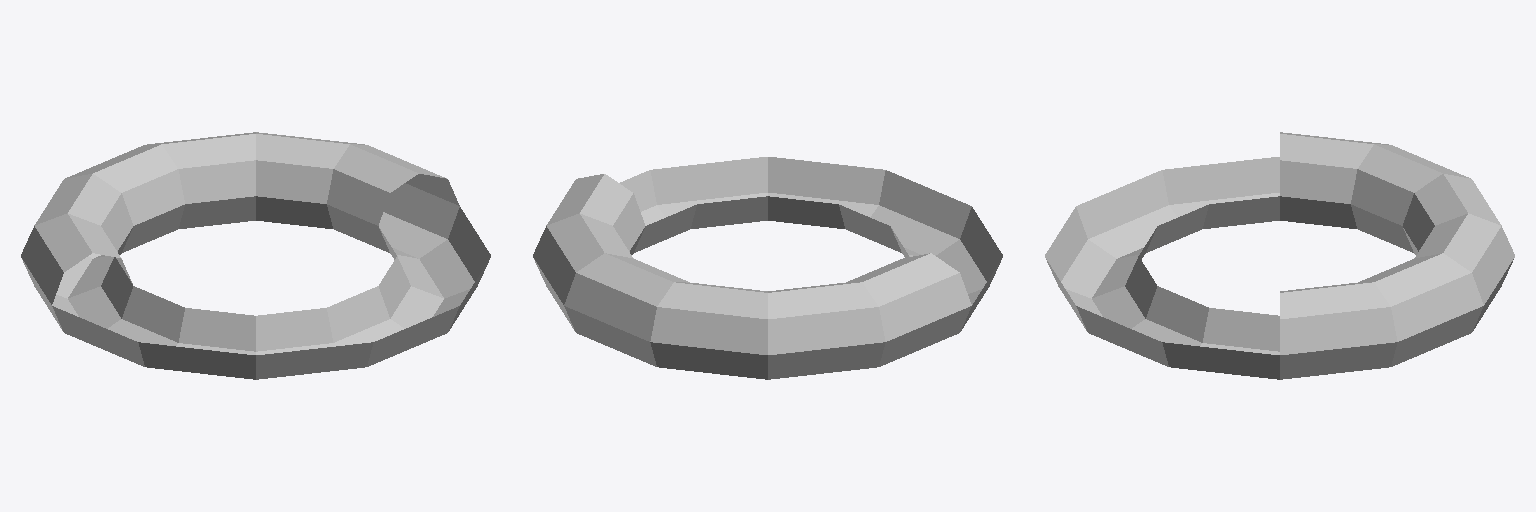
The model's file is smooth_torus.obj.
The picture shows the model from 3 angles: view 1: azimuth 30°, elevation 25°; view 2: azimuth 150°, elevation 25°; view 3: azimuth 270°, elevation 25°; orthographic projection.
Parts seen in each view (by area): view 1: Torus; view 2: Torus; view 3: Torus.
Part boxes in pixels (x1,y1,x2,y2): Torus: (21, 132, 490, 379); Torus: (533, 157, 1002, 379); Torus: (1045, 132, 1514, 379).
Bounding box in the file's own units: 2.5 × 0.5 × 2.5.